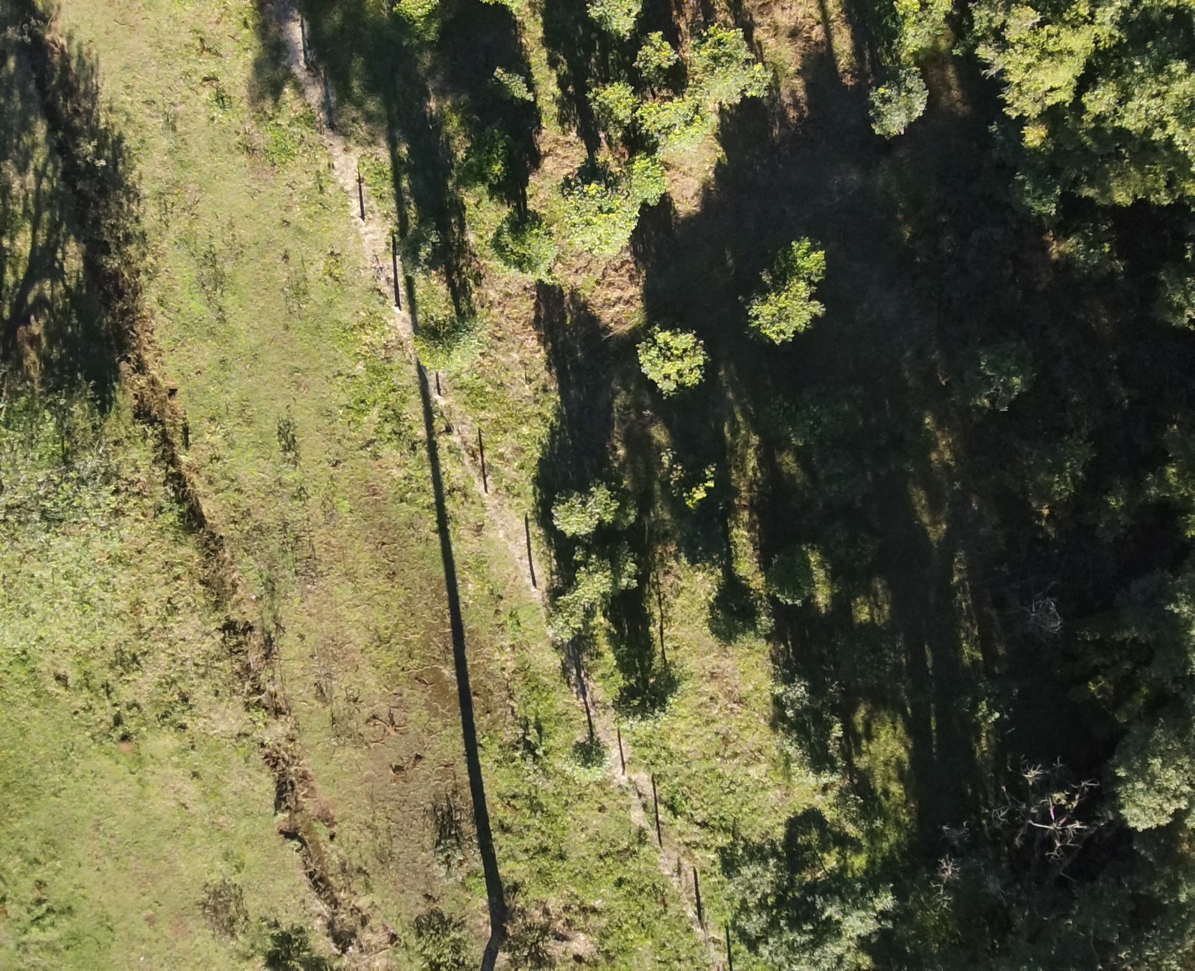erva: (746, 238, 828, 338), (630, 308, 713, 406), (553, 167, 637, 263), (684, 37, 773, 113), (446, 122, 520, 199), (485, 204, 555, 282), (870, 55, 930, 140), (558, 550, 646, 606), (416, 311, 490, 376), (565, 65, 631, 134), (769, 530, 822, 605), (478, 63, 541, 115), (556, 730, 619, 778), (578, 0, 657, 37), (621, 153, 674, 208), (615, 668, 664, 724), (552, 480, 595, 540), (651, 114, 710, 155), (631, 91, 674, 146), (584, 479, 636, 522), (631, 32, 672, 81)
